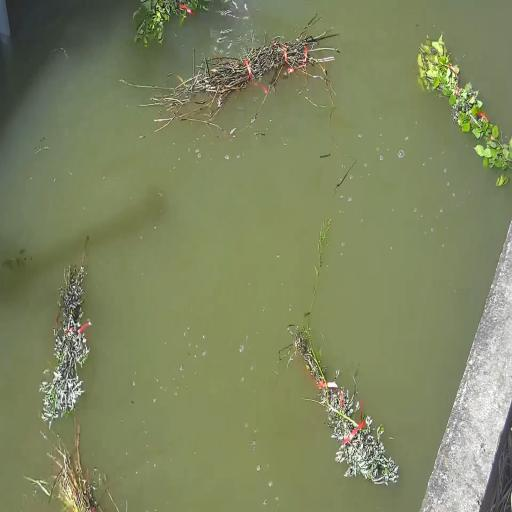twig: (152, 27, 339, 124), (293, 328, 398, 485), (417, 36, 512, 169), (39, 265, 90, 426), (25, 425, 103, 512), (133, 0, 210, 47)
